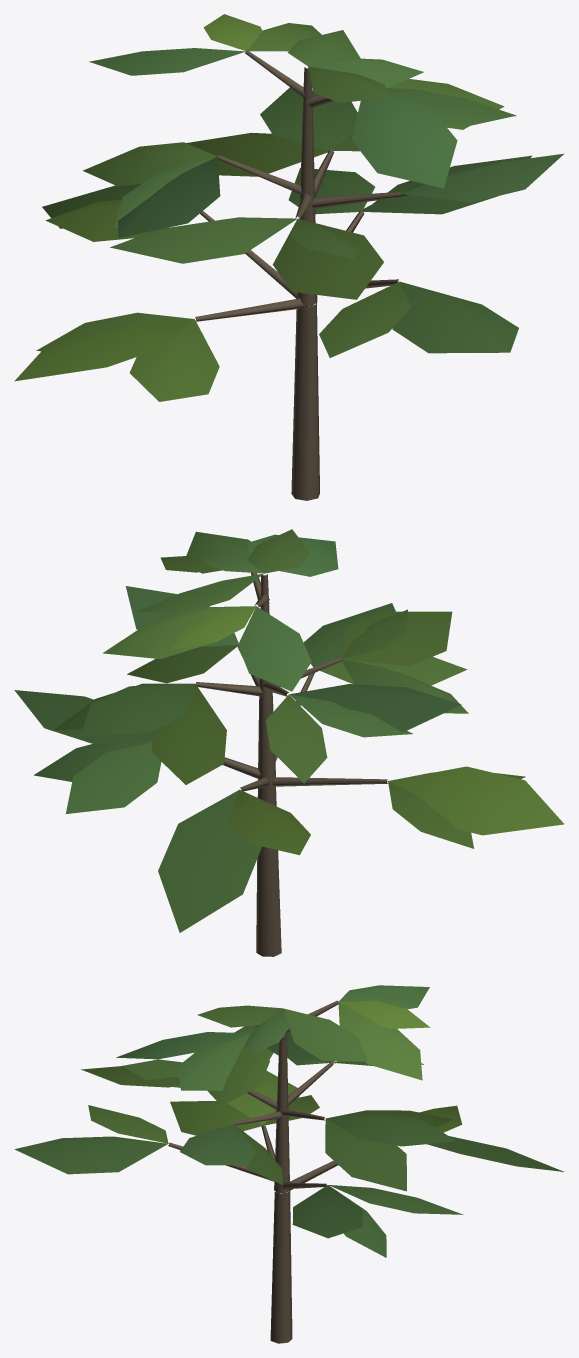
File: tree-layered.glb
The picture shows the model from 3 angles, top to bottom: view 1: azimuth 30°, elevation 25°; view 2: azimuth 150°, elevation 25°; view 3: azimuth 270°, elevation 25°; orthographic projection. The views are drawn at different scales.
Visible parts, largest first — view 1: tree-layered; view 2: tree-layered; view 3: tree-layered.
Part boxes in pixels (x1,y1,x2,y2): tree-layered: (14, 14, 563, 500); tree-layered: (14, 529, 563, 956); tree-layered: (14, 985, 563, 1343).
Bounding box in the file's own units: 12.04 × 8.76 × 12.96.
